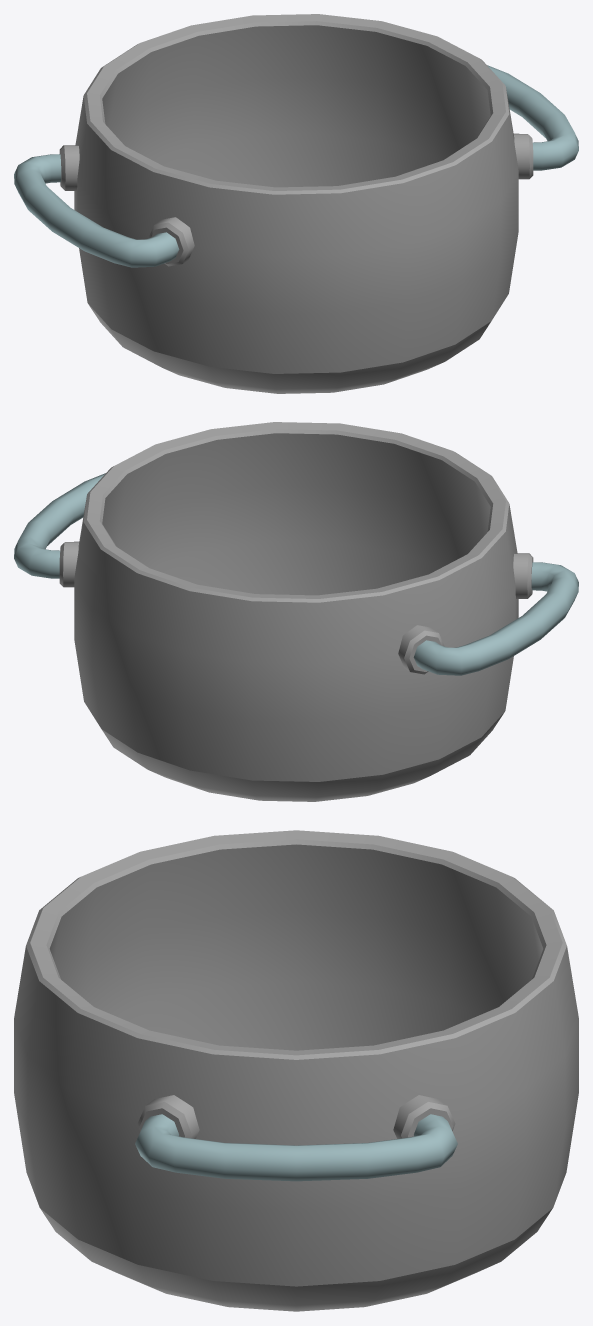
Rendered from Cooker.glb.
The picture shows the model from 3 angles, top to bottom: view 1: azimuth 30°, elevation 25°; view 2: azimuth 150°, elevation 25°; view 3: azimuth 270°, elevation 25°; orthographic projection. The views are drawn at different scales.
Visible parts, largest first — view 1: Circle; view 2: Circle; view 3: Circle.
Boxes of the visible parts, box(x1,y1,x2,y2) form: Circle: box(14, 14, 578, 393); Circle: box(14, 422, 578, 801); Circle: box(14, 830, 578, 1311).
Size of the model in its own units: 0.3144 by 0.1351 by 0.2453.
